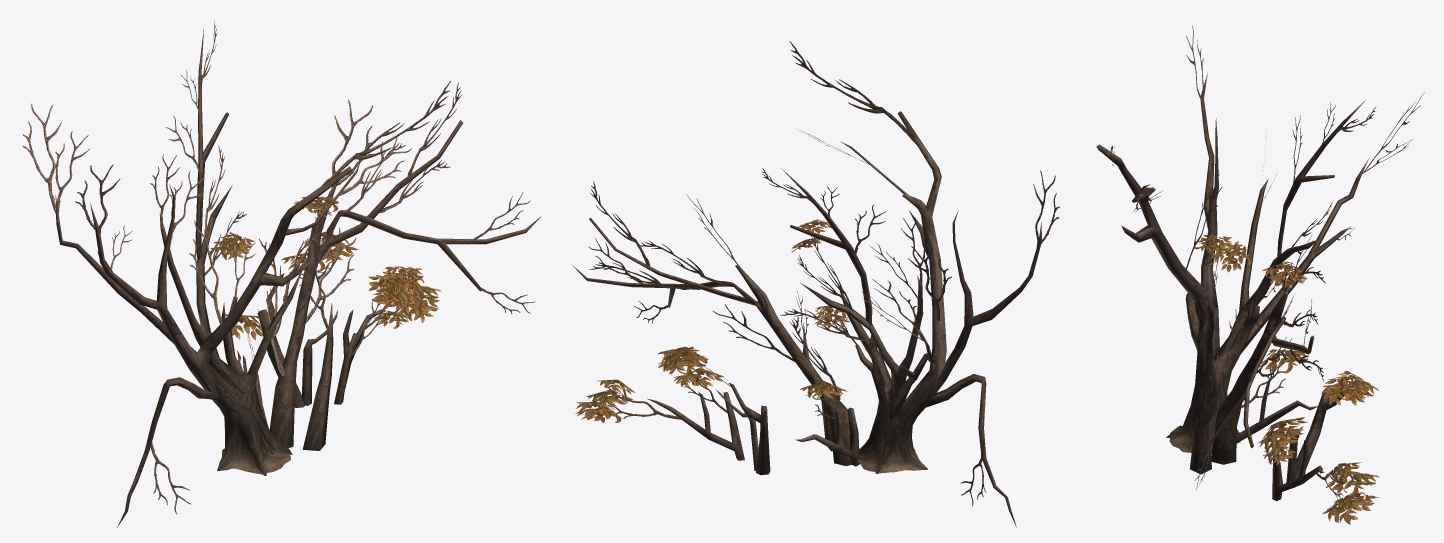
Rendered from Plant_1.FBX.
3 renders of one model, left to right at view 1: azimuth 30°, elevation 25°; view 2: azimuth 150°, elevation 25°; view 3: azimuth 270°, elevation 25°, orthographic. The views are drawn at different scales.
Visible parts, largest first — view 1: Plant_1; view 2: Plant_1; view 3: Plant_1.
Boxes of the visible parts, box(x1,y1,x2,y2) form: Plant_1: box(22, 21, 541, 527); Plant_1: box(572, 41, 1059, 527); Plant_1: box(1096, 25, 1424, 524).
Size of the model in its own units: 276 by 238 by 163.
